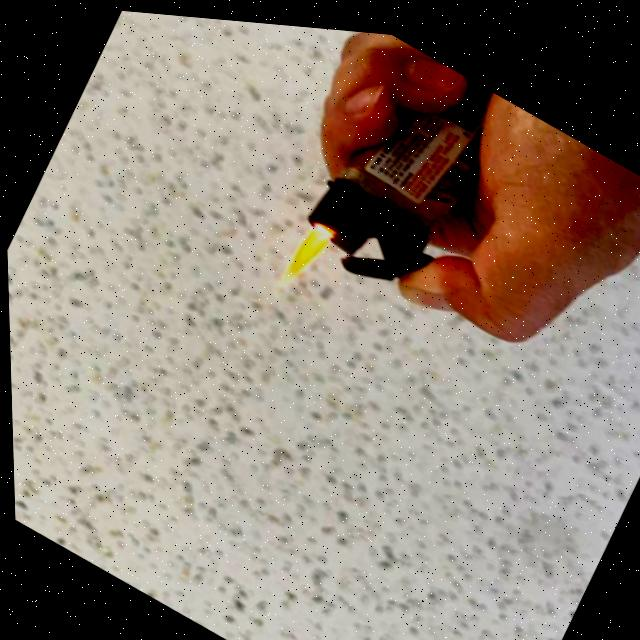Fire: (274, 211, 334, 291)
